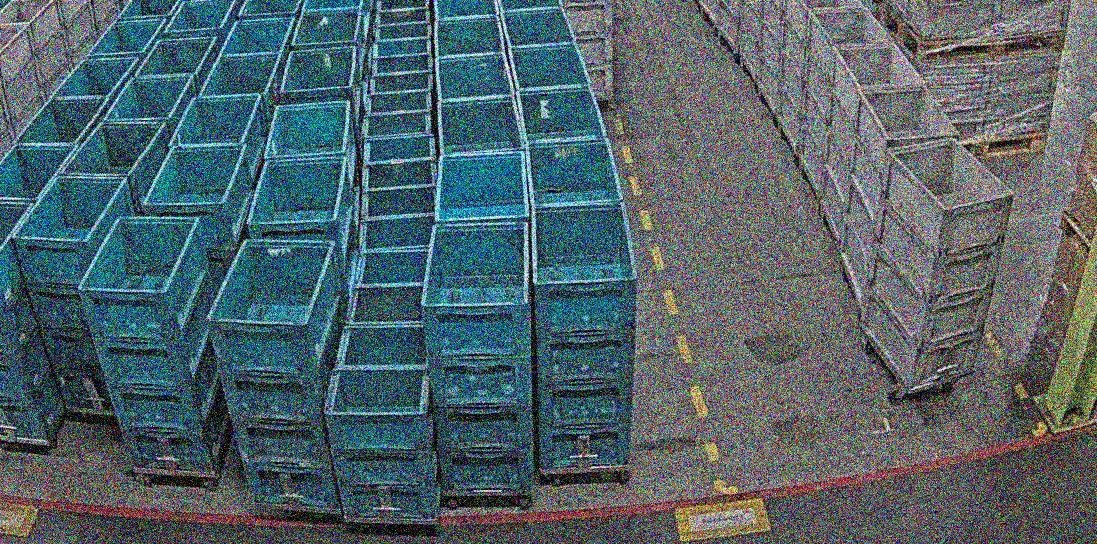4G: (858, 140, 1013, 390)
B4: (80, 216, 229, 475), (207, 239, 343, 509), (421, 221, 532, 496), (12, 176, 136, 419), (530, 201, 638, 474)
B8: (325, 324, 438, 520)
